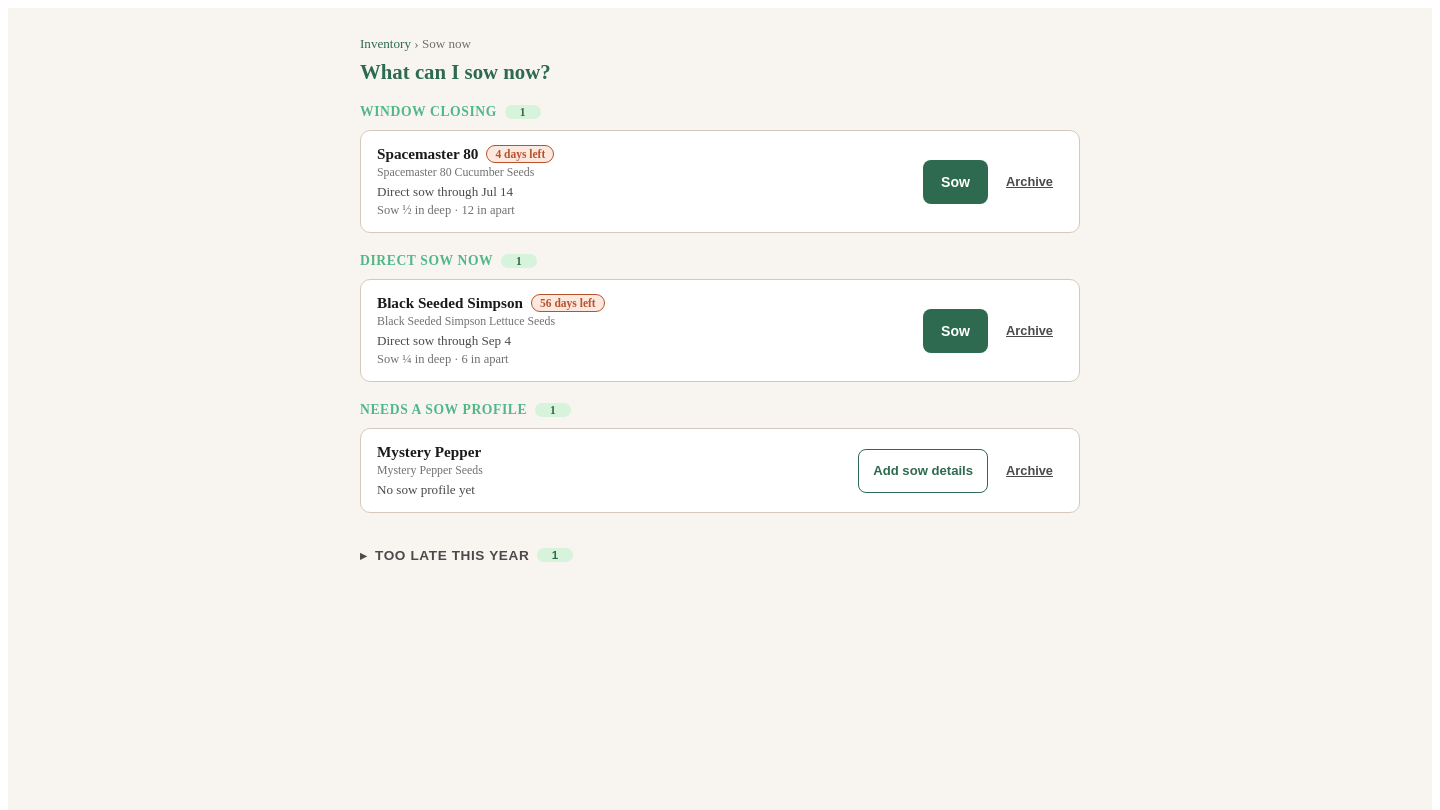
it: SowNow — bucket sections (real sowEngine, today=2026-07-10) › too_late is collapsed by default behind a disclosure
Expected: the text "Chile Biquinho" is not shown
Click the button "▸ Too late this year 1": coordinates (467, 555) [360,533,573,577]
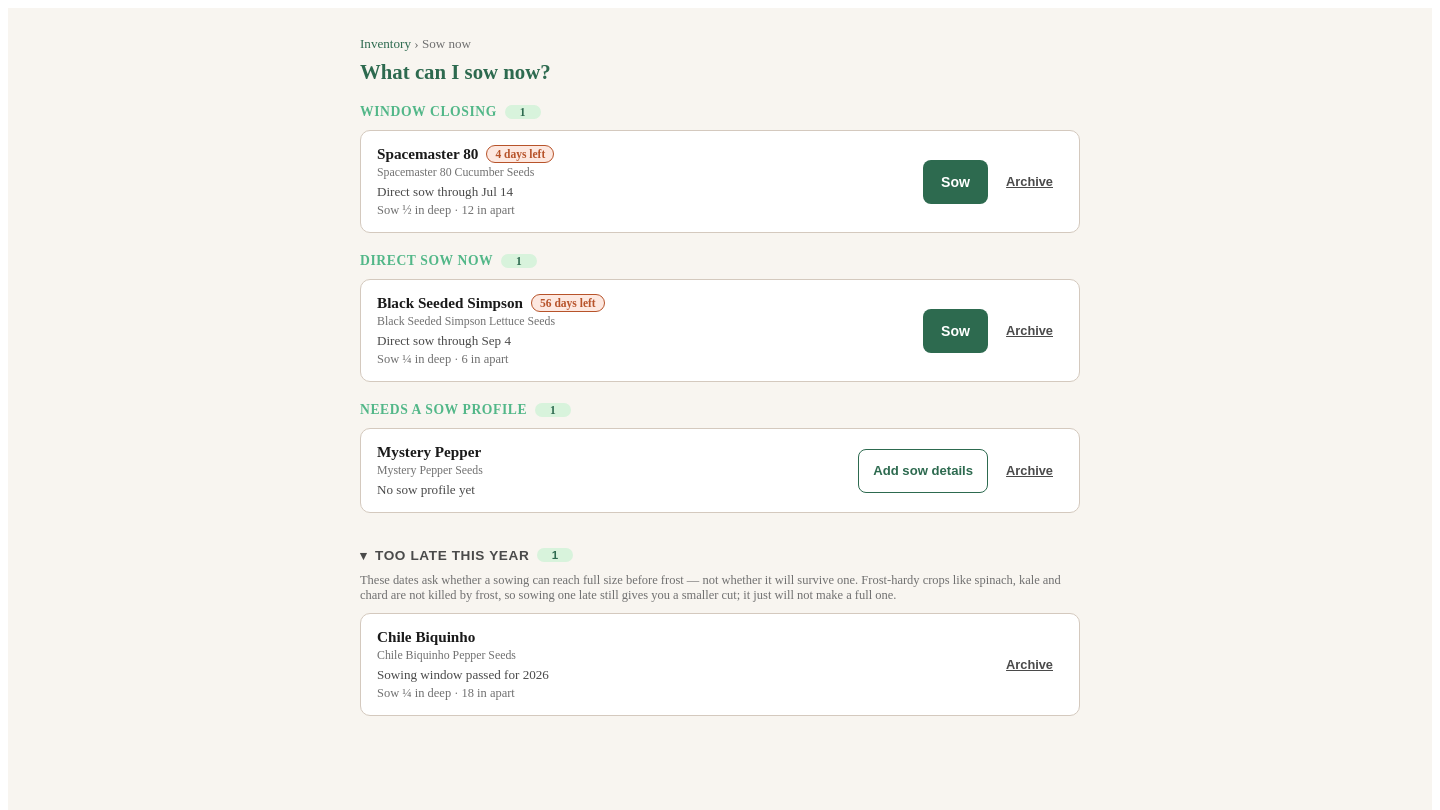
Result: the text "Chile Biquinho" is shown at [377,628,475,646]
